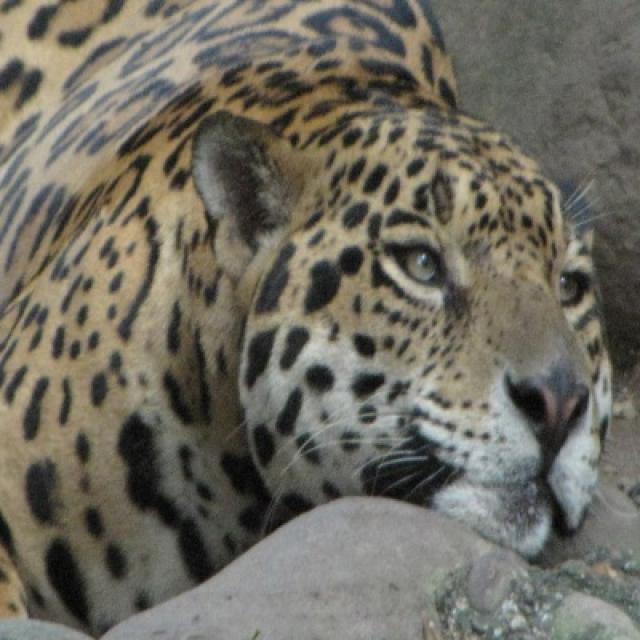Jaguar: (0, 0, 614, 638)
